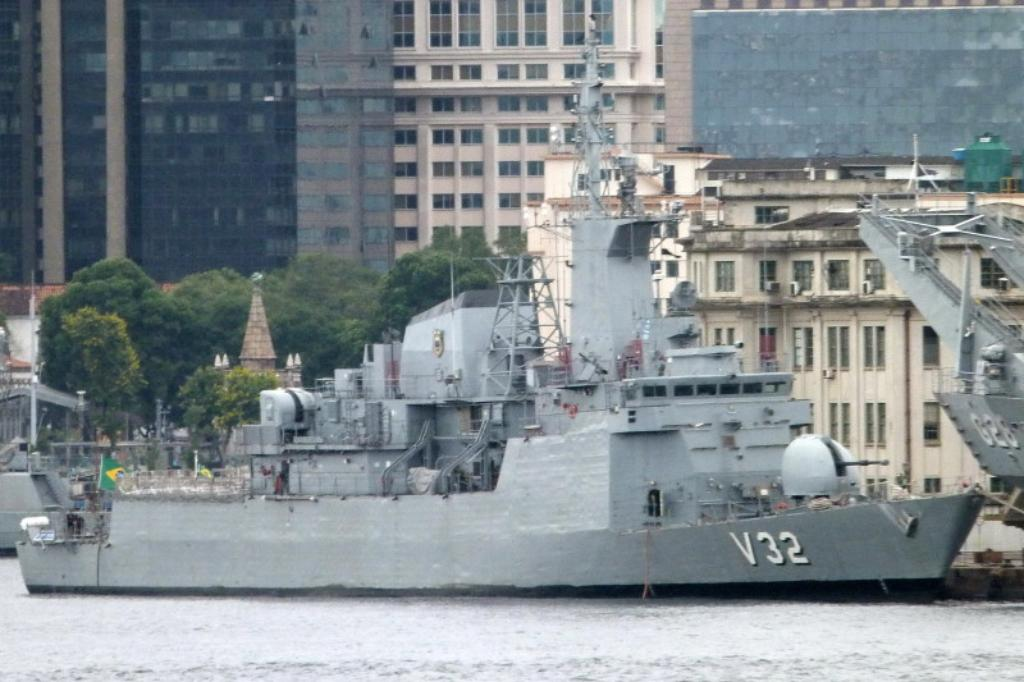Warship: (16, 13, 986, 604)
